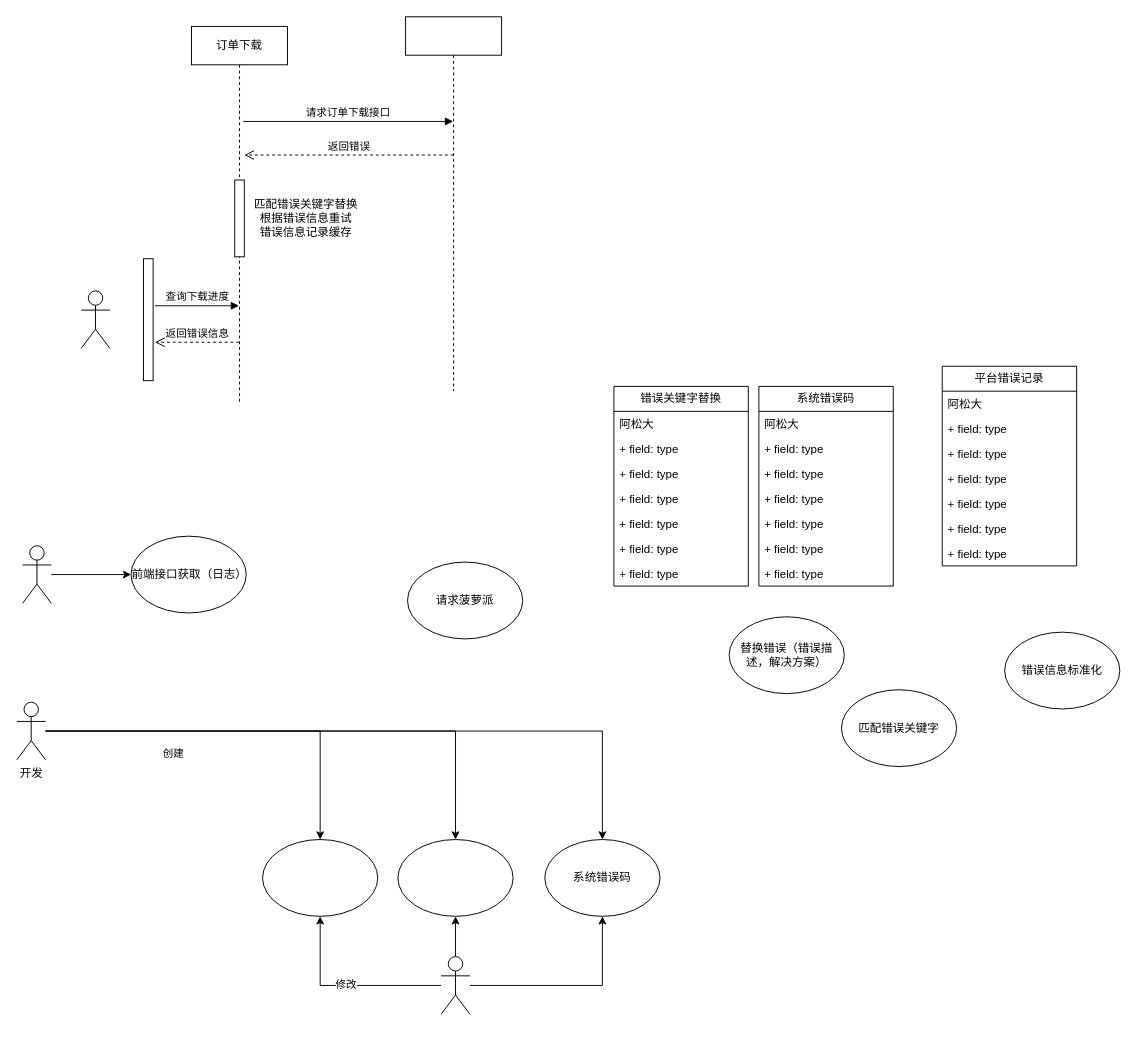
Some shapes in this 1137 by 1051 pixel diagram are drawn without their labels. The shapes that lost their labels are listed below. From the top down, each one's box as (x1, y1, x2, y2) in pixels, then its label:
(405, 16, 502, 391): 聚合
(80, 290, 110, 348): 用户
(22, 545, 51, 603): 前端
(262, 839, 378, 916): 旧版 错误关键字替换
(397, 839, 513, 916): 新版 平台错误记录
(440, 956, 470, 1014): 产品
